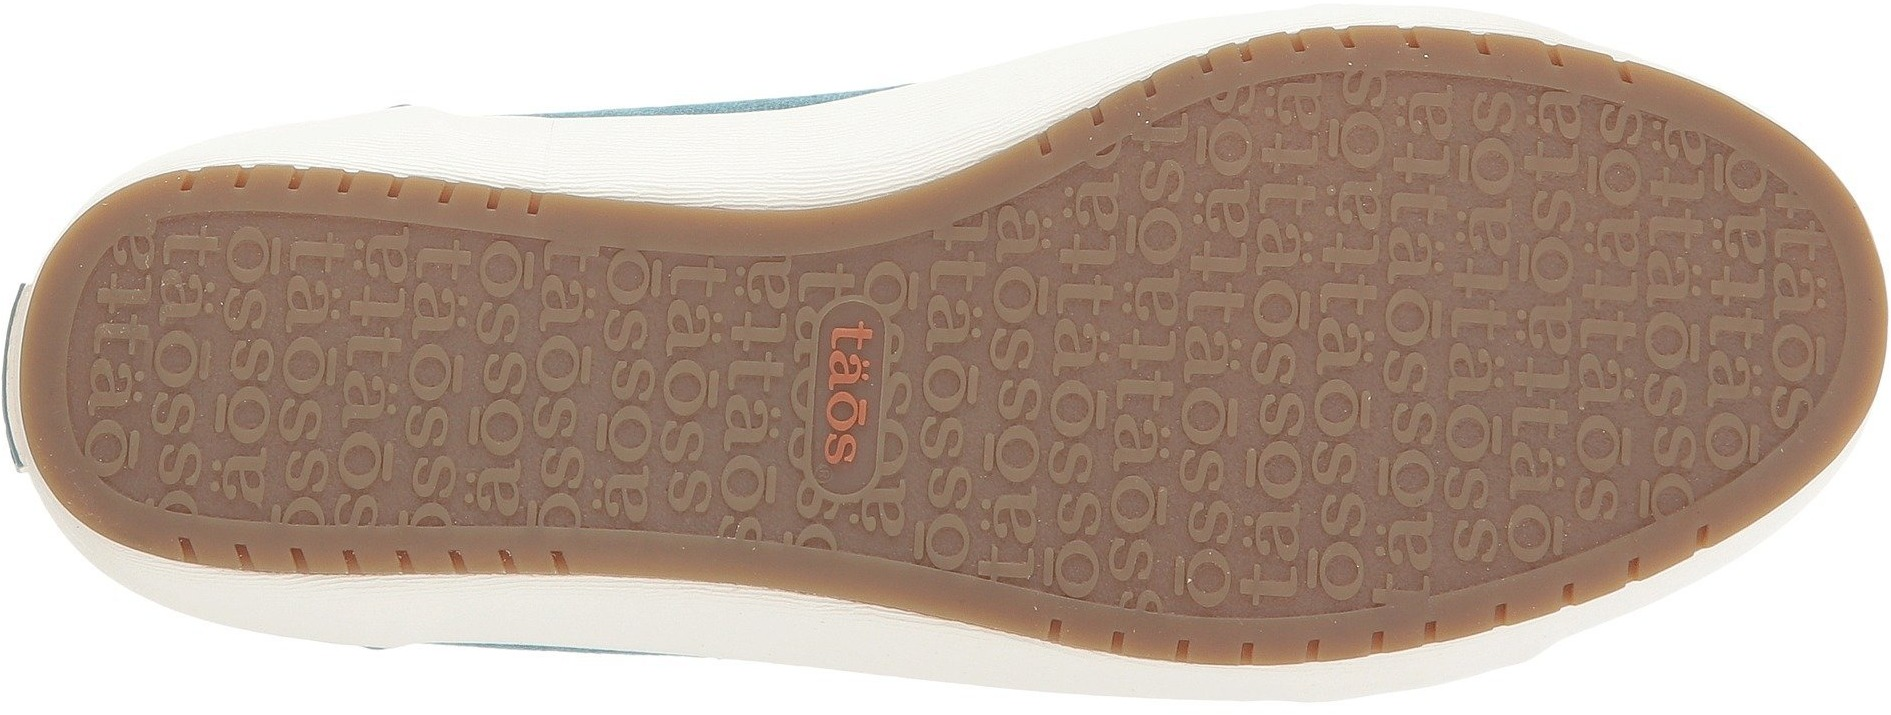circle: (798, 291, 892, 504)
line: (798, 291, 892, 504)
text: (1200, 119, 1635, 497), (112, 259, 727, 500), (974, 283, 1185, 579), (798, 291, 892, 504)
